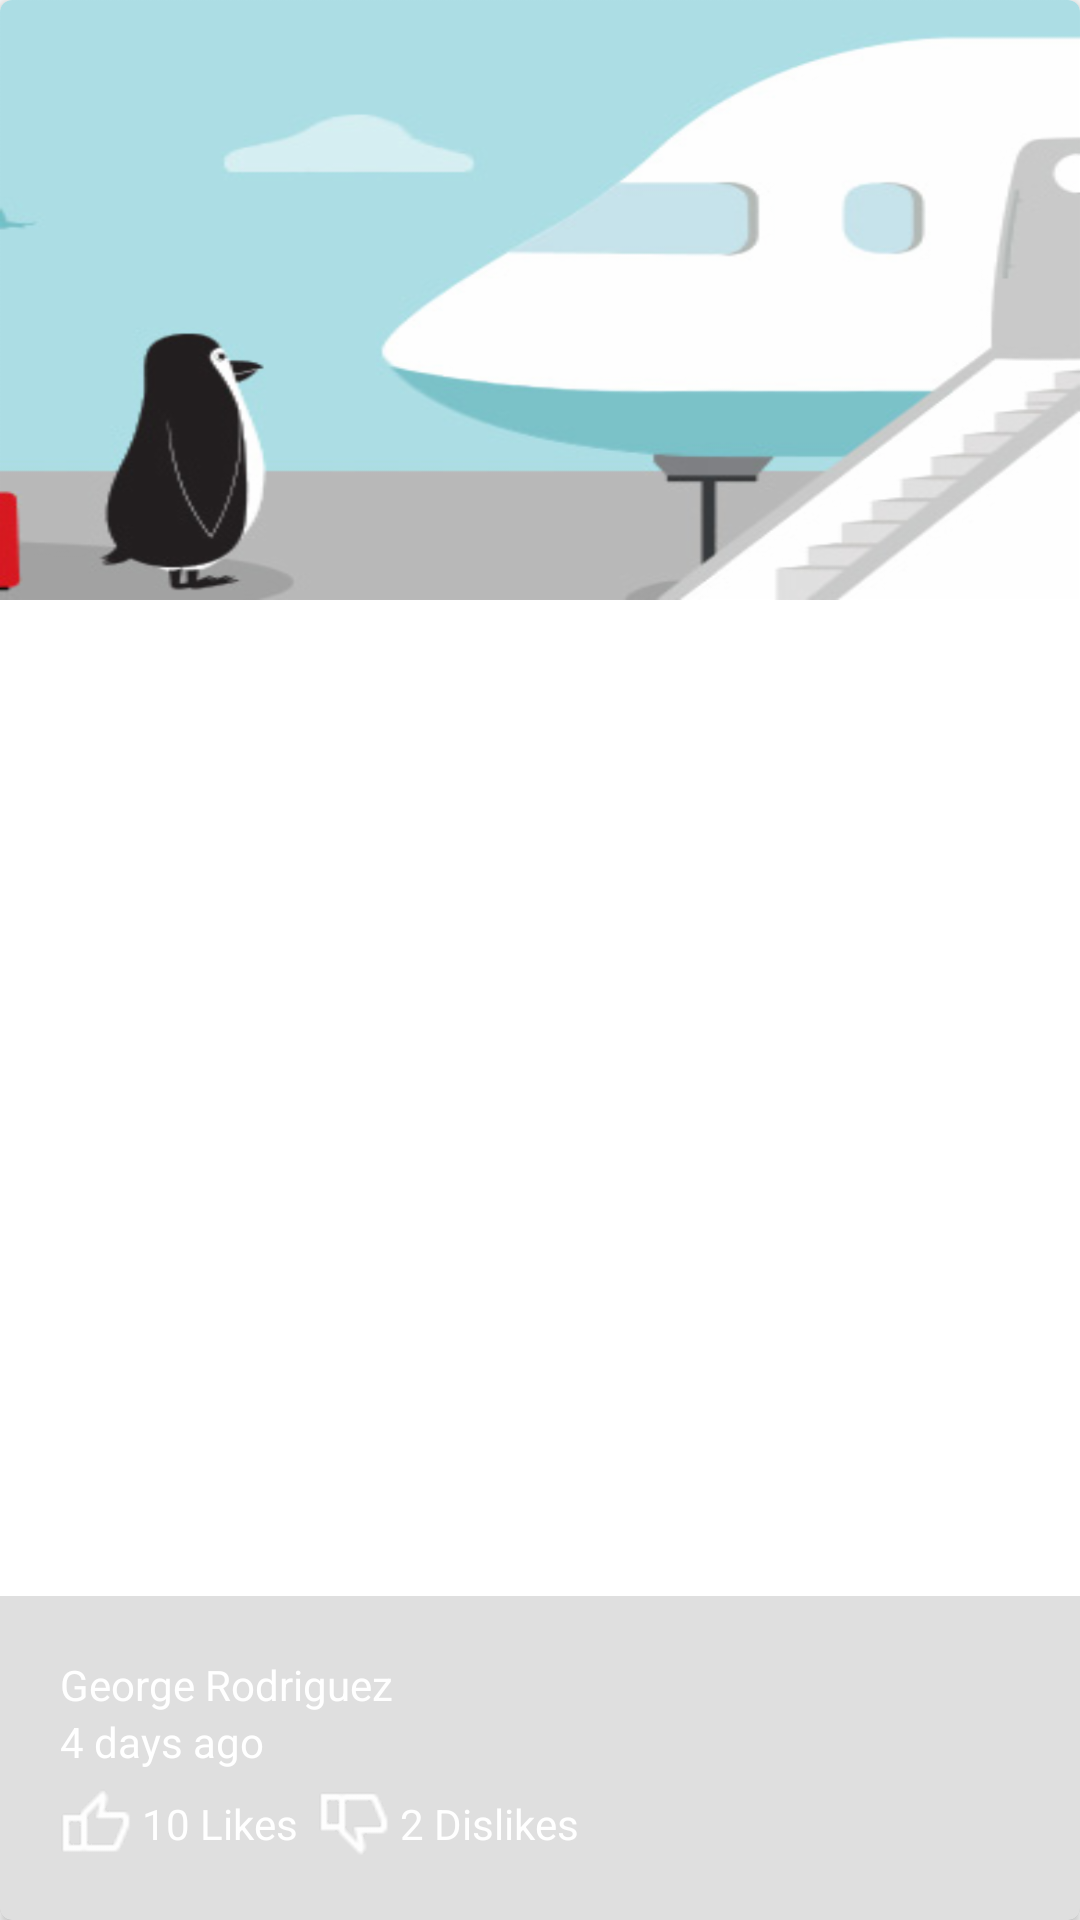

Named icons in this screenshot (1080w x 1920h) and their centers, point (x, y):
dislike check box: point (354, 1823)
like check box: point (96, 1822)
